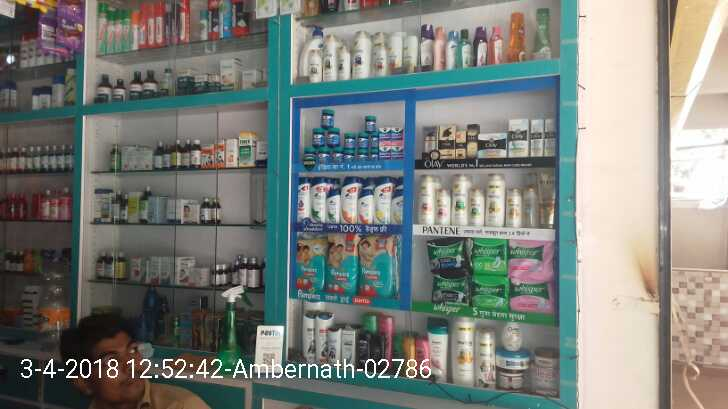vicks: (307, 103, 405, 161)
